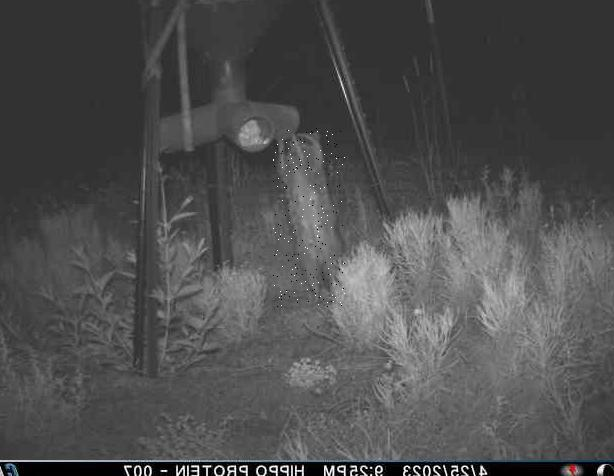Raccoon: (273, 128, 345, 307)
